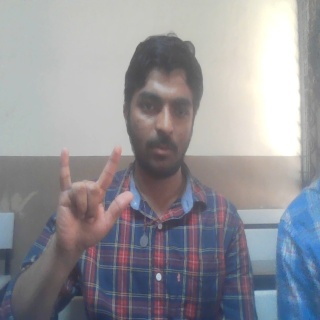Face: (122, 32, 205, 179)
I Love You: (52, 145, 134, 257)
